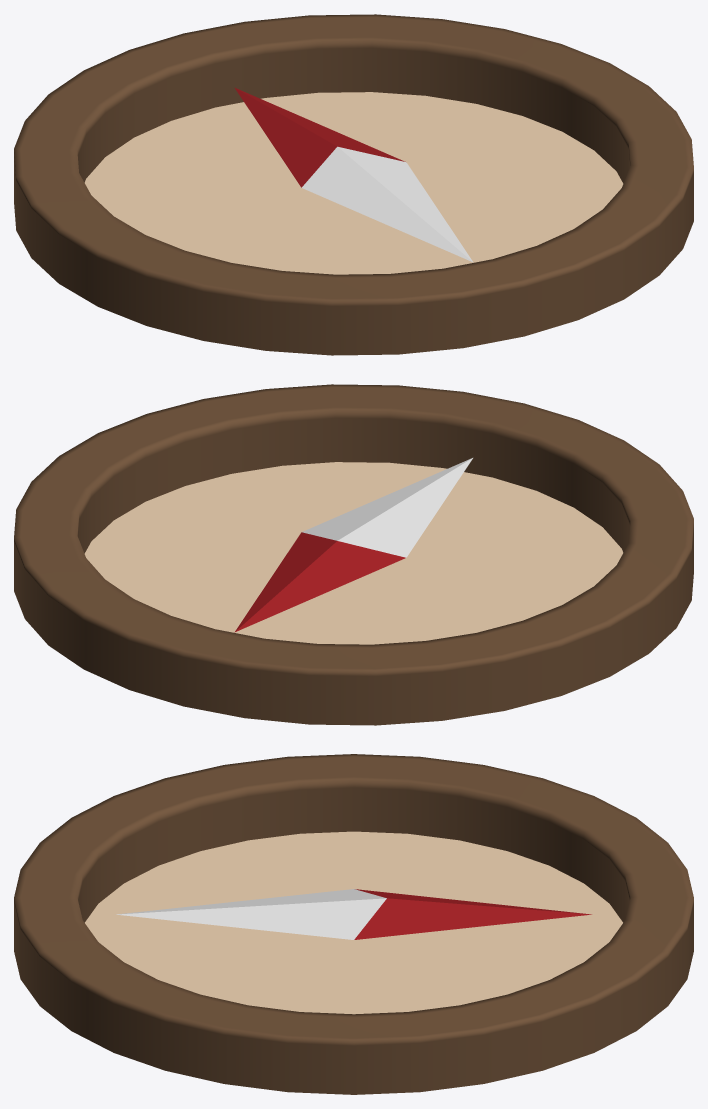
File: compass.glb
The picture shows the model from 3 angles, top to bottom: view 1: azimuth 30°, elevation 25°; view 2: azimuth 150°, elevation 25°; view 3: azimuth 270°, elevation 25°; orthographic projection.
Visible parts, largest first — view 1: CompassBase, CompassNeedle; view 2: CompassBase, CompassNeedle; view 3: CompassBase, CompassNeedle.
Part boxes in pixels (box(x1,y1,x2,y2)): CompassBase: box(14, 14, 693, 355); CompassNeedle: box(235, 88, 473, 262); CompassBase: box(14, 384, 693, 725); CompassNeedle: box(234, 458, 472, 632); CompassBase: box(14, 754, 693, 1094); CompassNeedle: box(116, 889, 591, 939).
Bounding box in the file's own units: 2.15 × 0.1878 × 2.15.
